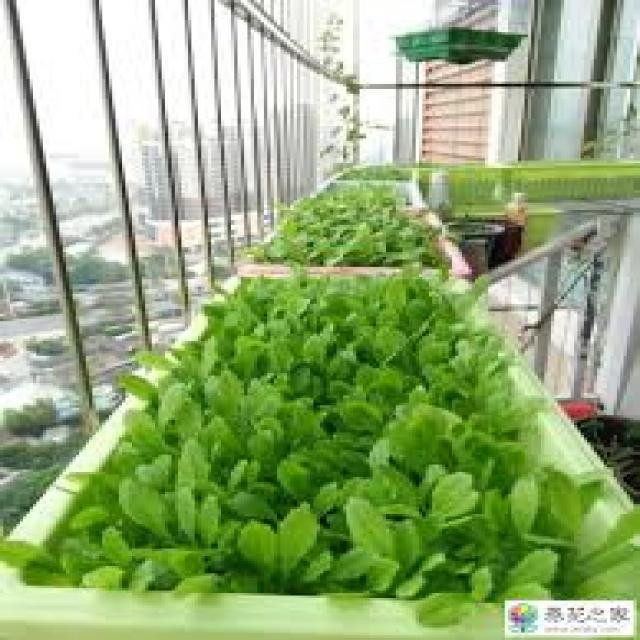organic waste: (234, 274, 475, 596), (119, 299, 231, 591), (465, 348, 558, 600), (531, 462, 637, 603), (40, 450, 135, 586), (320, 180, 412, 264), (260, 208, 314, 257), (412, 210, 449, 267), (416, 588, 475, 623), (0, 536, 49, 570), (333, 160, 406, 180)
